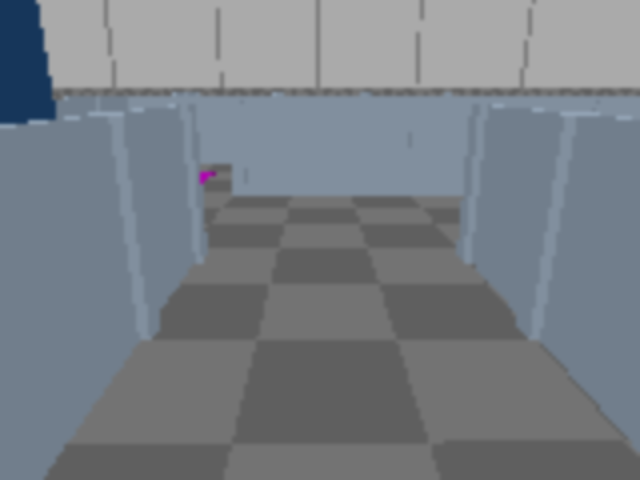person: (0, 0, 76, 363)
